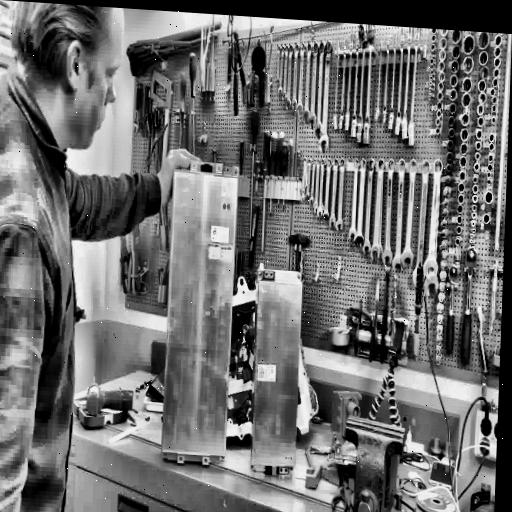battery_module: (162, 167, 239, 460), (252, 281, 304, 467)
